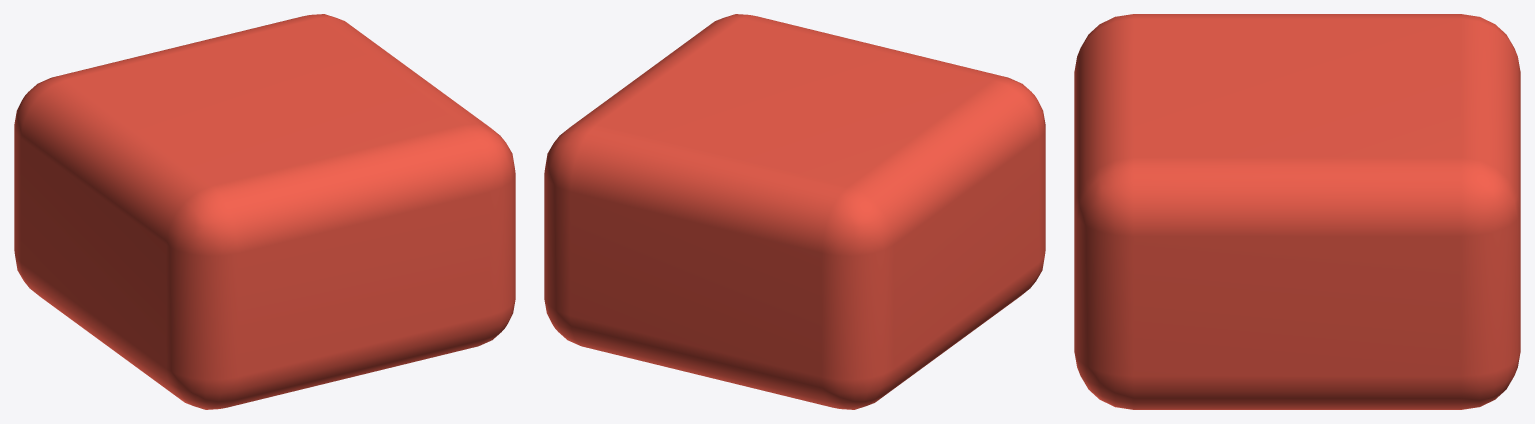
Rendered from AFJ_Block_1x1_Seamless.fbx.
The picture shows the model from 3 angles, left to right: view 1: azimuth 30°, elevation 25°; view 2: azimuth 150°, elevation 25°; view 3: azimuth 270°, elevation 25°; orthographic projection. The views are drawn at different scales.
Visible parts, largest first — view 1: Block_1x1_NoBadge; view 2: Block_1x1_NoBadge; view 3: Block_1x1_NoBadge.
Part boxes in pixels (x1=…): Block_1x1_NoBadge: x1=14, y1=14, x2=515, y2=409; Block_1x1_NoBadge: x1=544, y1=14, x2=1045, y2=409; Block_1x1_NoBadge: x1=1074, y1=14, x2=1520, y2=409.
Bounding box in the file's own units: 90 × 55 × 90.
